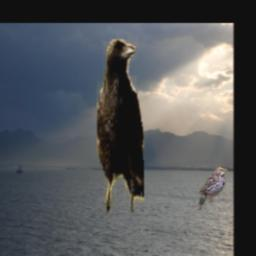Crow: (97, 40, 145, 214)
Sparrow: (197, 164, 229, 210)
